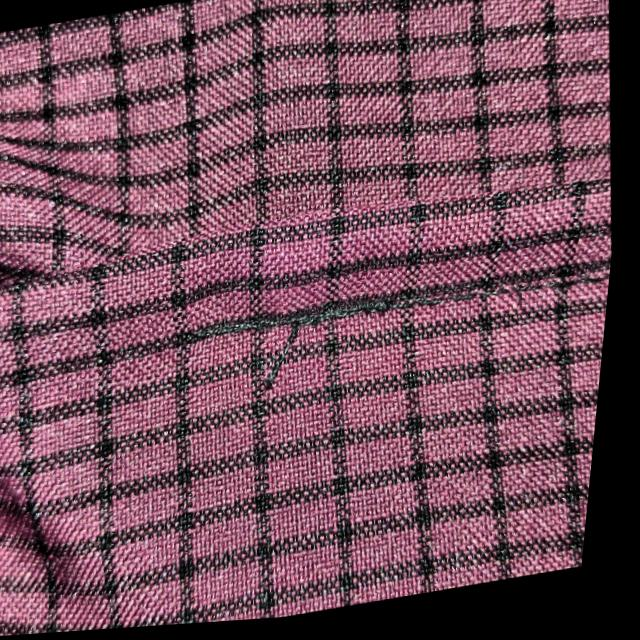Stitch: (192, 257, 392, 475)
